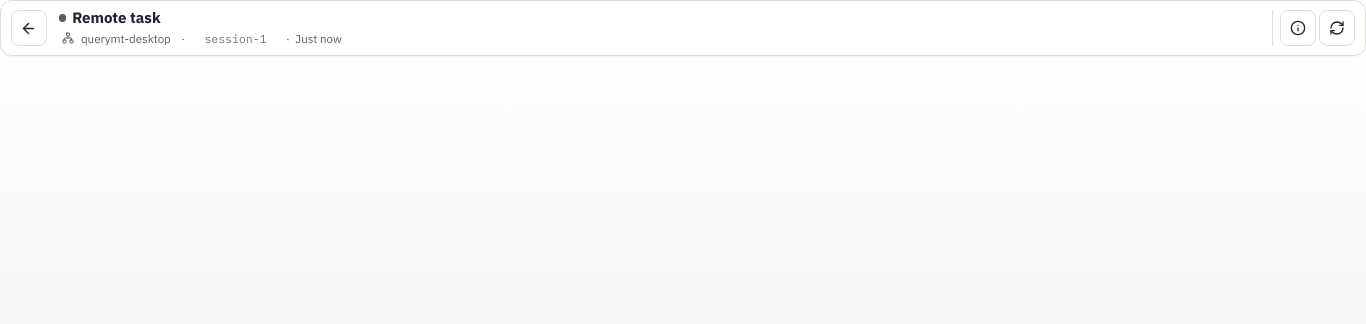
SessionHeader › shows an icon-only remote host tooltip before the workspace on desktop and mobile
Expected: the icon with class "lucide-network" is shown, [62, 32, 74, 44]
Hover over the button named "Remote session on flkr".
mouse_move(68, 38)  # box [59, 29, 77, 47]
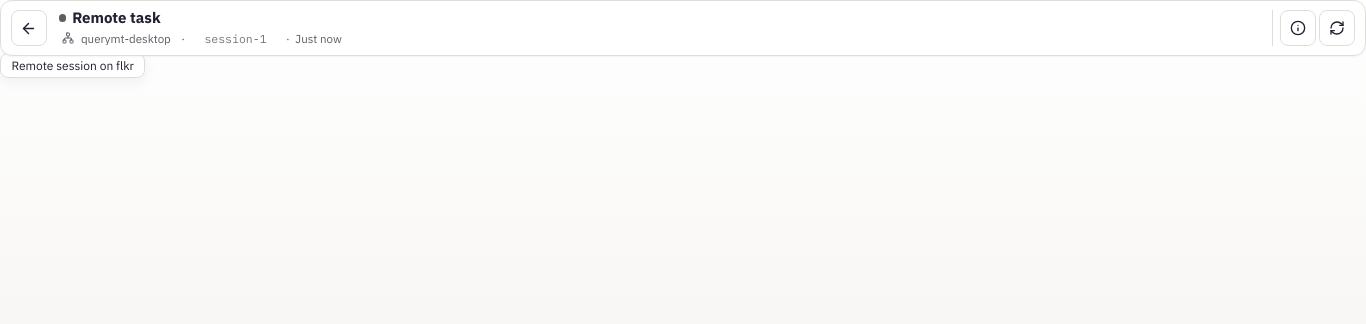
Expected: the text "Remote session on flkr" is shown, [0, 53, 145, 78]
